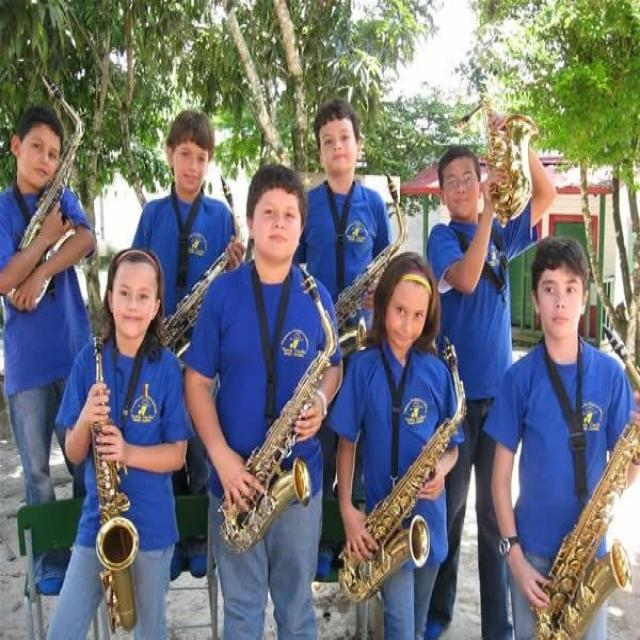saxophone: (218, 265, 339, 556), (336, 334, 466, 600), (531, 322, 640, 639), (3, 75, 99, 309), (80, 338, 142, 637), (160, 177, 248, 355), (333, 172, 404, 352), (450, 94, 540, 228)
